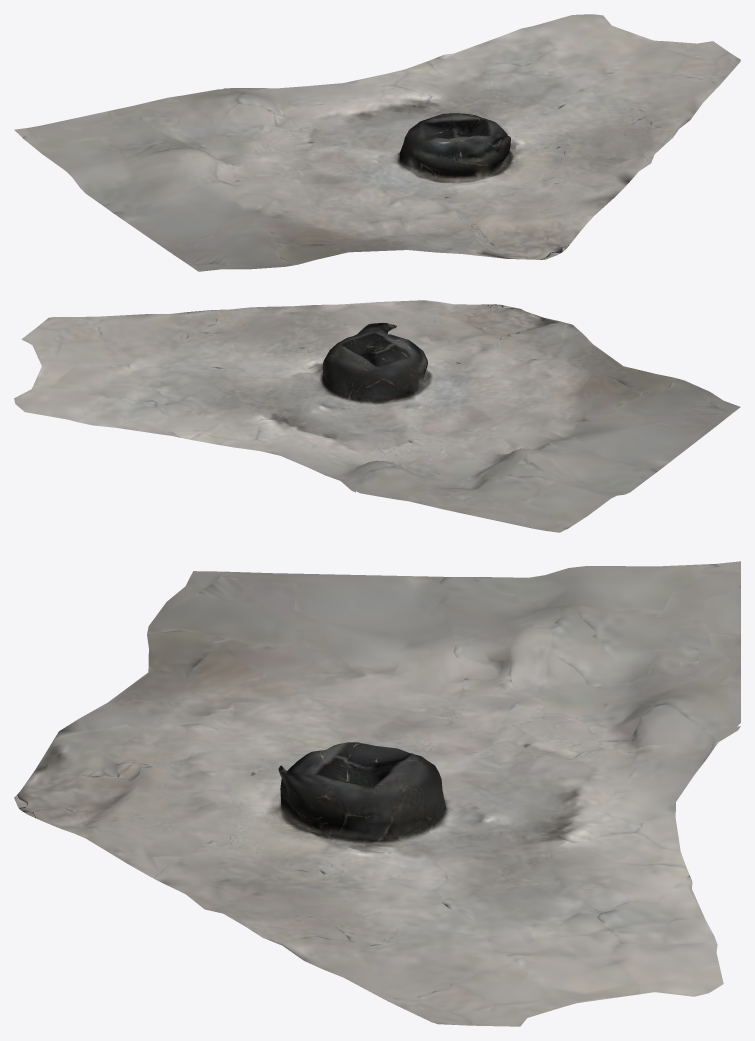
The model's file is hall.glb.
3 views of the same model, one above another, from view 1: azimuth 30°, elevation 25°; view 2: azimuth 150°, elevation 25°; view 3: azimuth 270°, elevation 25° (orthographic). The views are drawn at different scales.
Bounding box in the file's own units: 3.43 × 0.2159 × 2.34.
Materials: 1 (1 with a texture image).
